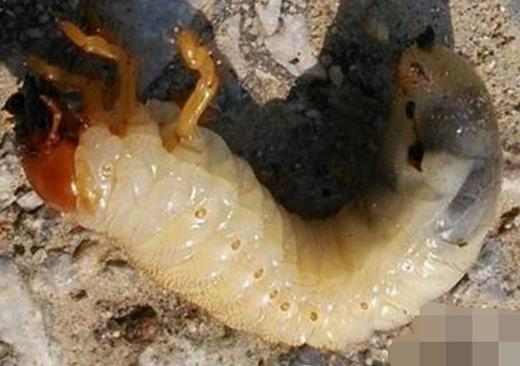grub: (13, 16, 502, 354)
